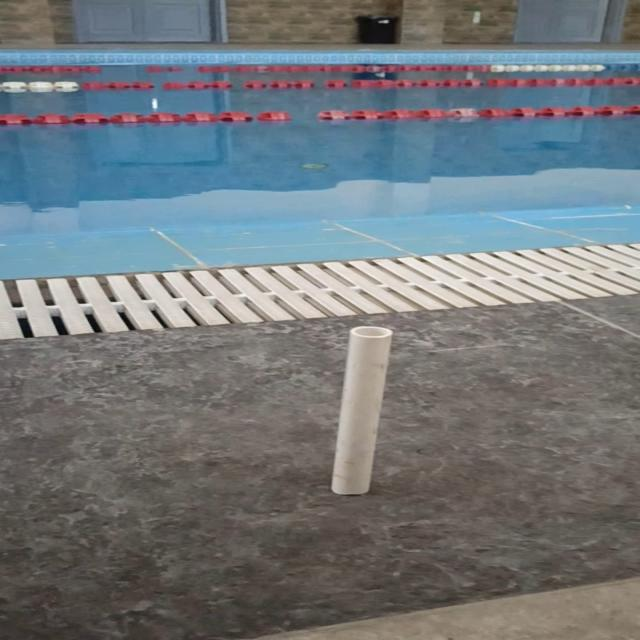Cube: (328, 325, 393, 495)
